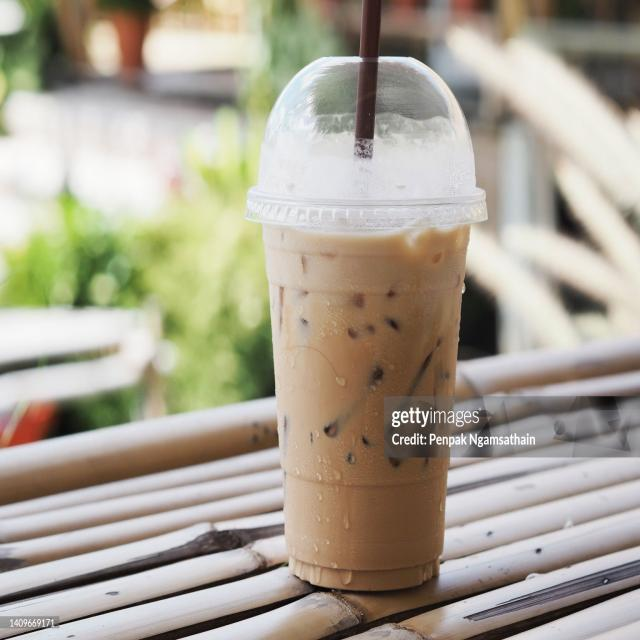cup: (247, 50, 492, 592)
